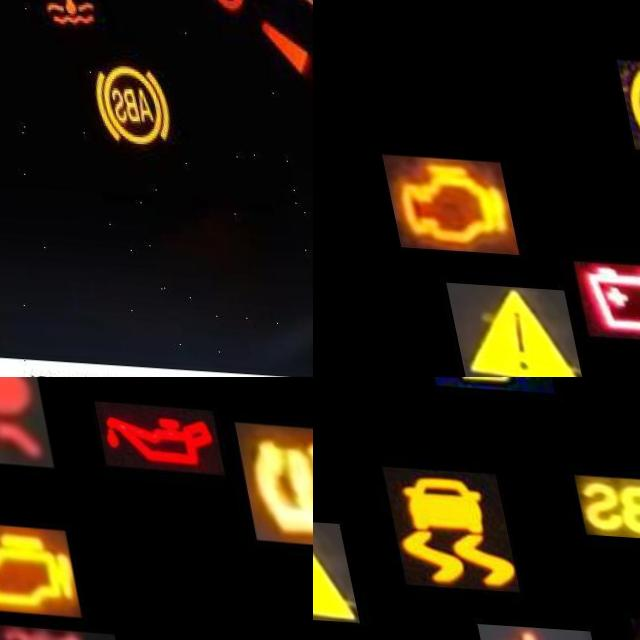Central Warning lamp: (431, 281, 566, 377), (313, 514, 341, 620)
